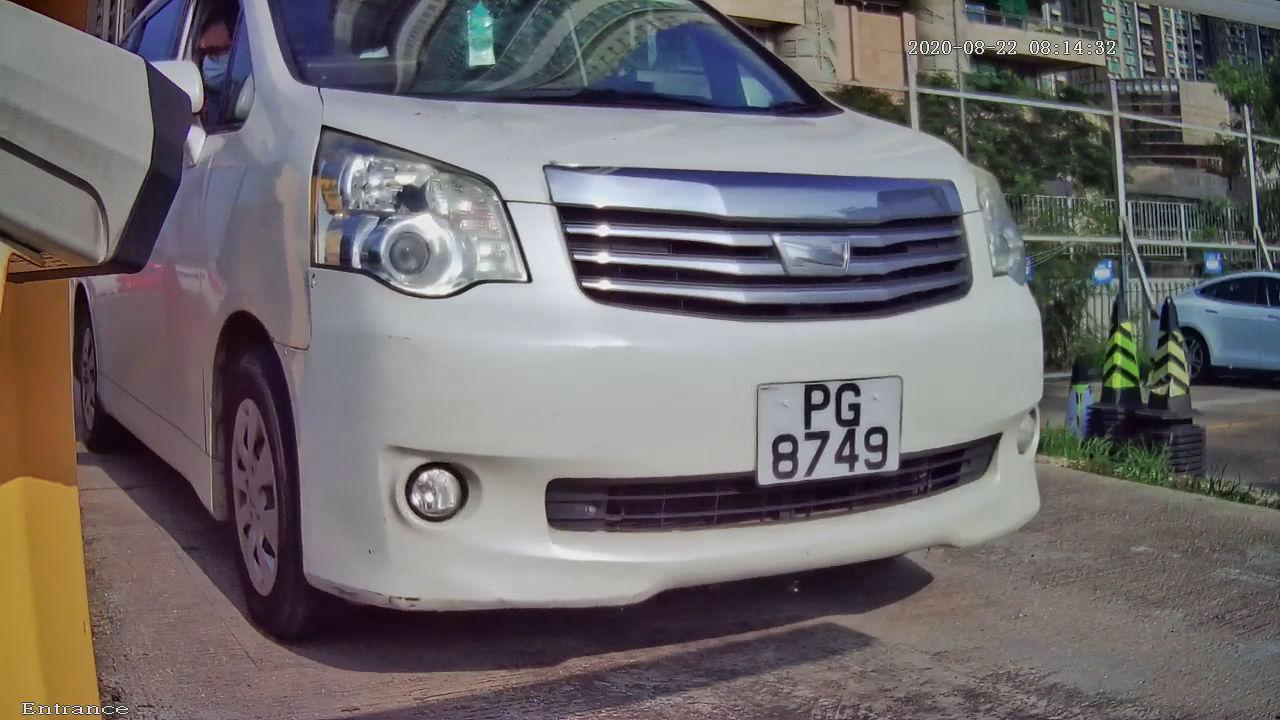Car: (52, 1, 1126, 679)
License Plate: (738, 357, 921, 499)
